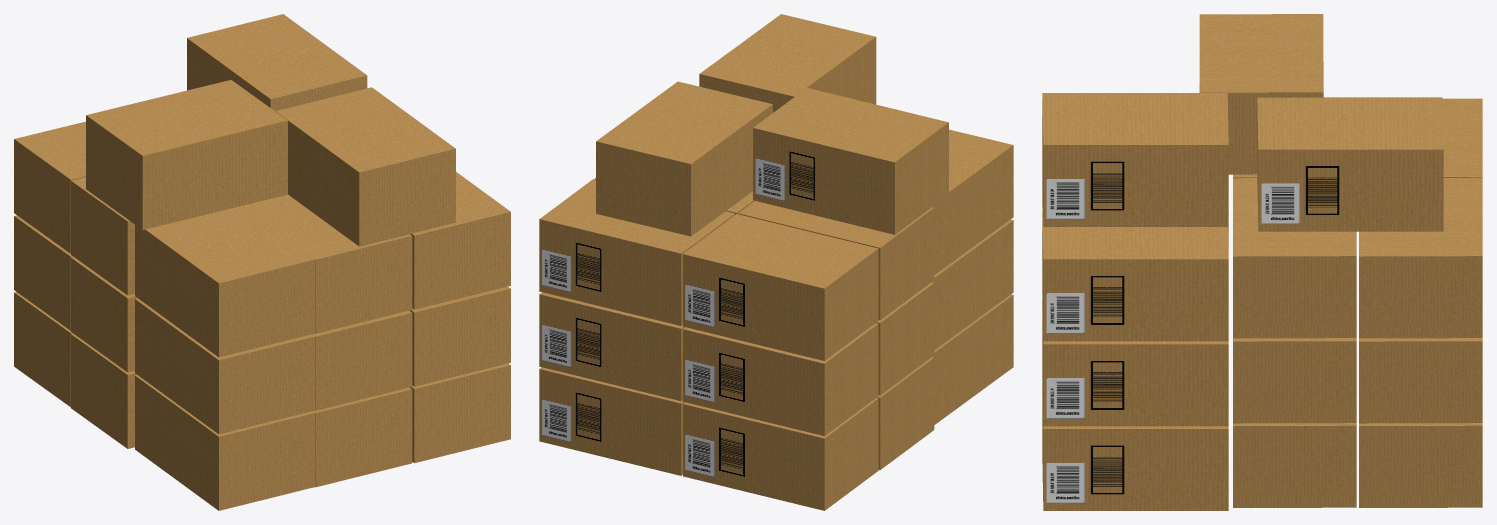
The model's file is goods_c.glb.
3 renders of one model, left to right at view 1: azimuth 30°, elevation 25°; view 2: azimuth 150°, elevation 25°; view 3: azimuth 270°, elevation 25°, orthographic. The views are drawn at different scales.
Parts seen in each view (by area): view 1: aws_robomaker_warehouse_ClutteringC_01_visual-lib; view 2: aws_robomaker_warehouse_ClutteringC_01_visual-lib; view 3: aws_robomaker_warehouse_ClutteringC_01_visual-lib.
Boxes of the visible parts, bbox=[...] form: aws_robomaker_warehouse_ClutteringC_01_visual-lib: bbox=[14, 14, 510, 510]; aws_robomaker_warehouse_ClutteringC_01_visual-lib: bbox=[539, 14, 1013, 510]; aws_robomaker_warehouse_ClutteringC_01_visual-lib: bbox=[1042, 14, 1482, 510].
Size of the model in its own units: 1.77 by 1.72 by 2.05.
Materials: 1 (1 with a texture image).
